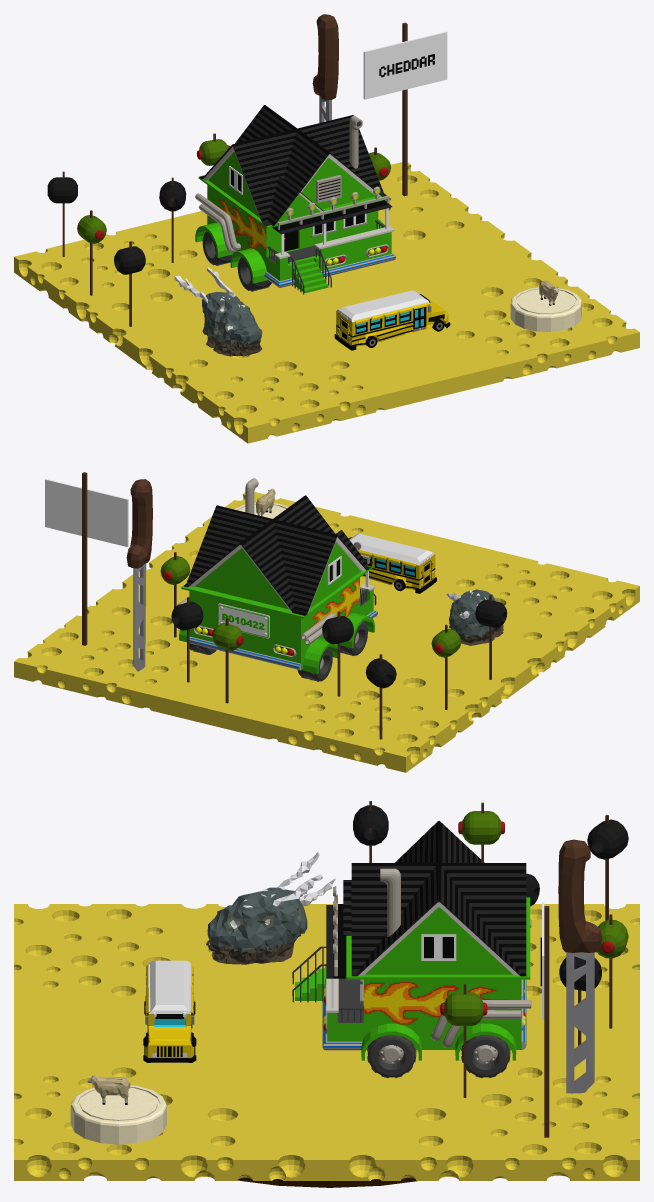
3 renders of one model, top to bottom at view 1: azimuth 30°, elevation 25°; view 2: azimuth 150°, elevation 25°; view 3: azimuth 270°, elevation 25°, orthographic. The views are drawn at different scales.
Visible parts, largest first — view 1: Cube.022, Cube.1474, Cube.023, VEHICLES_SCHOOL_BUS, OBJRANDOM_METEORITE, Cylinder.016, Cube.024, Sphere.017, Sphere.016, Sphere.020, Sphere.018, Sphere.022; view 2: Cube.022, Cube.1474, Cube.023, VEHICLES_SCHOOL_BUS, Cube.024, OBJRANDOM_METEORITE, Sphere.020, Sphere.016, Sphere.022, Sphere.017, Sphere.021, Sphere.018 (+1 smaller); view 3: Cube.022, Cube.1474, OBJRANDOM_METEORITE, Cube.024, VEHICLES_SCHOOL_BUS, Cylinder.016, Cube.023, Sphere.019, Sphere.016, Sphere.018, Sphere.017, Sphere.022 (+3 smaller).
Part boxes in pixels (left/top/right/bottom): Cube.022: left=14, top=162, right=639, bottom=443; Cube.1474: left=195, top=105, right=396, bottom=294; Cube.023: left=363, top=22, right=447, bottom=196; VEHICLES_SCHOOL_BUS: left=334, top=290, right=450, bottom=350; OBJRANDOM_METEORITE: left=174, top=267, right=262, bottom=356; Cylinder.016: left=510, top=287, right=581, bottom=331; Cube.024: left=312, top=14, right=338, bottom=122; Sphere.017: left=114, top=241, right=145, bottom=326; Sphere.016: left=47, top=171, right=77, bottom=256; Sphere.020: left=159, top=177, right=186, bottom=262; Sphere.018: left=77, top=210, right=106, bottom=295; Sphere.022: left=196, top=133, right=229, bottom=165; Cube.022: left=14, top=492, right=639, bottom=772; Cube.1474: left=177, top=478, right=377, bottom=681; Cube.023: left=45, top=472, right=128, bottom=645; VEHICLES_SCHOOL_BUS: left=348, top=533, right=436, bottom=593; Cube.024: left=126, top=479, right=152, bottom=671; OBJRANDOM_METEORITE: left=446, top=589, right=503, bottom=645; Sphere.020: left=322, top=611, right=353, bottom=696; Sphere.016: left=365, top=654, right=396, bottom=739; Sphere.022: left=212, top=618, right=243, bottom=703; Sphere.017: left=475, top=594, right=507, bottom=679; Sphere.021: left=171, top=597, right=203, bottom=682; Sphere.018: left=431, top=624, right=461, bottom=709; Cube.022: left=14, top=904, right=639, bottom=1180; Cube.1474: left=292, top=821, right=531, bottom=1077; OBJRANDOM_METEORITE: left=206, top=852, right=335, bottom=964; Cube.024: left=558, top=839, right=601, bottom=1093; VEHICLES_SCHOOL_BUS: left=143, top=960, right=196, bottom=1062; Cylinder.016: left=70, top=1085, right=166, bottom=1144; Cube.023: left=540, top=902, right=549, bottom=1137; Sphere.019: left=440, top=984, right=487, bottom=1097; Sphere.016: left=587, top=815, right=628, bottom=920; Sphere.018: left=458, top=802, right=504, bottom=861; Sphere.017: left=353, top=801, right=388, bottom=862; Sphere.022: left=597, top=914, right=628, bottom=1028.
Size of the model in its own units: 3917 by 2073 by 4000.
Materials: 45 (4 with a texture image).
